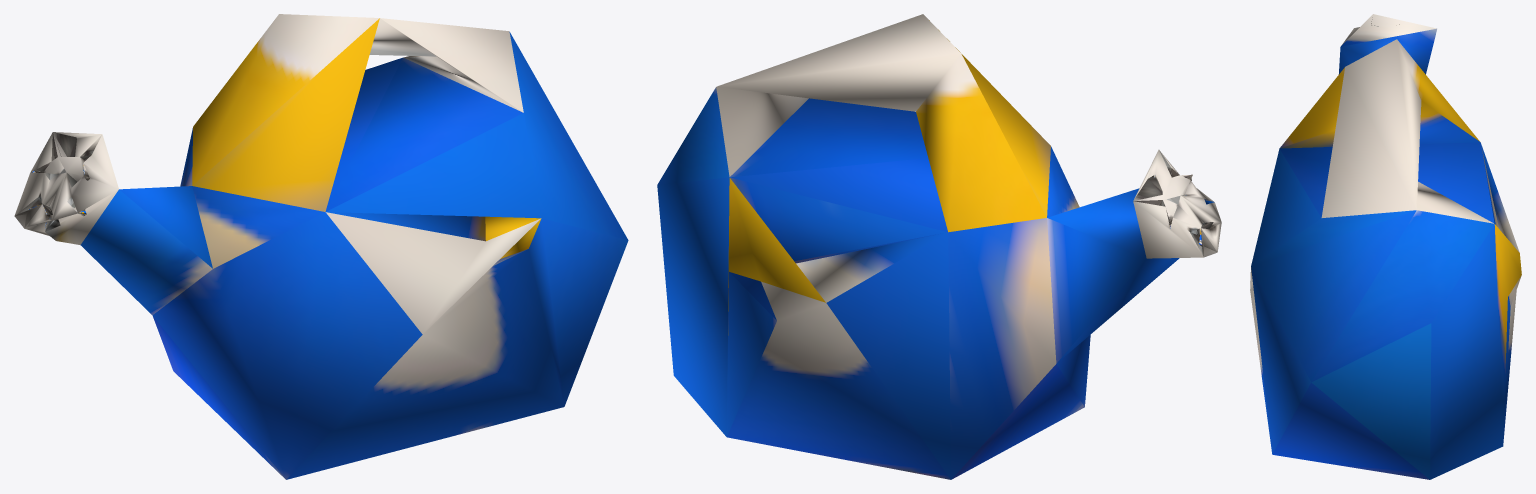
File: kova_lod2.glb
3 renders of one model, left to right at view 1: azimuth 30°, elevation 25°; view 2: azimuth 150°, elevation 25°; view 3: azimuth 270°, elevation 25°, orthographic. The views are drawn at different scales.
Parts seen in each view (by area): view 1: kova_lod2; view 2: kova_lod2; view 3: kova_lod2.
Boxes of the visible parts, box(x1,y1,x2,y2) form: kova_lod2: box(14, 14, 628, 479); kova_lod2: box(657, 14, 1221, 479); kova_lod2: box(1250, 14, 1521, 479).
Size of the model in its own units: 0.7661 by 0.5278 by 0.383.
Materials: 1 (1 with a texture image).
